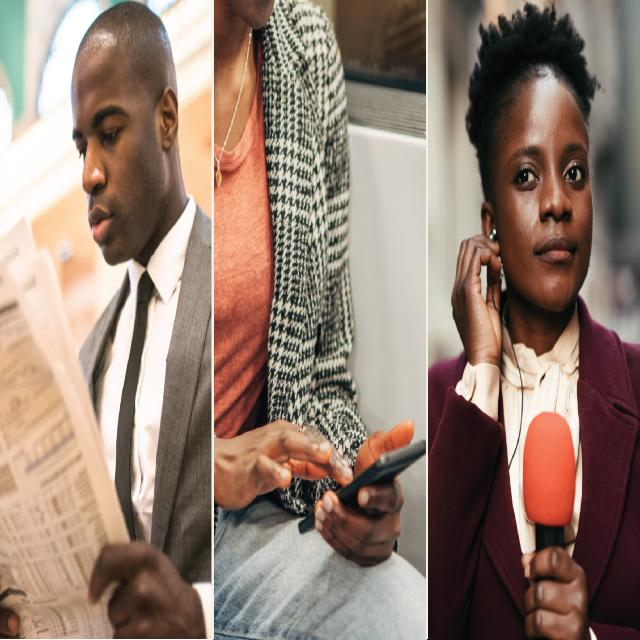sem_oculos: (473, 151, 601, 204), (68, 121, 184, 154)
